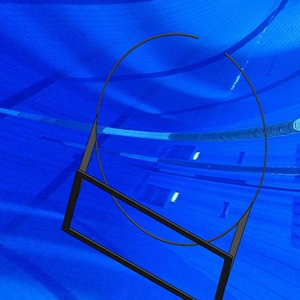circle: (61, 32, 269, 299)
